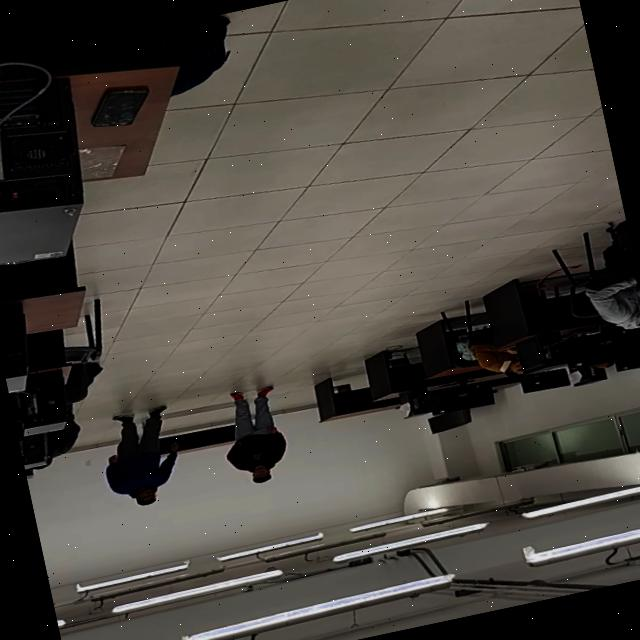Persona: (92, 403, 192, 512), (214, 383, 294, 488)
